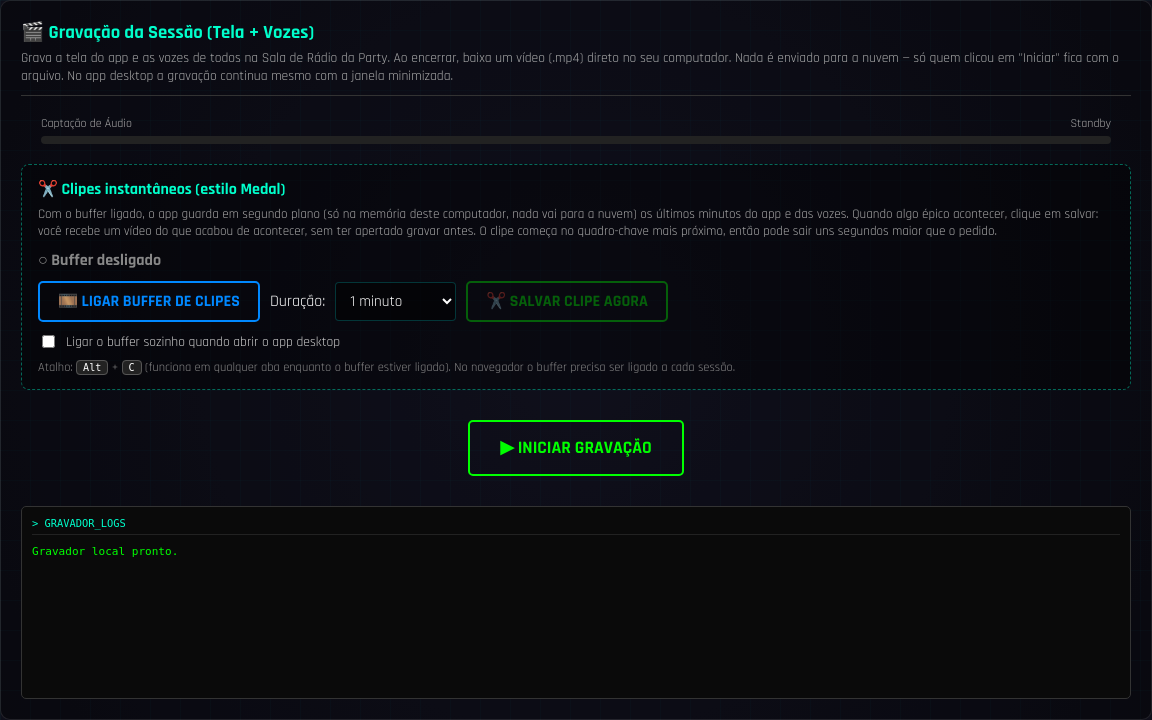
Scenario: GravadorPanel: modo clipe › LIGAR BUFFER inicia o recorder com start(1000)
Click the button "🎞️ LIGAR BUFFER DE CLIPES". click: (149, 302)
box: [38, 281, 260, 322]
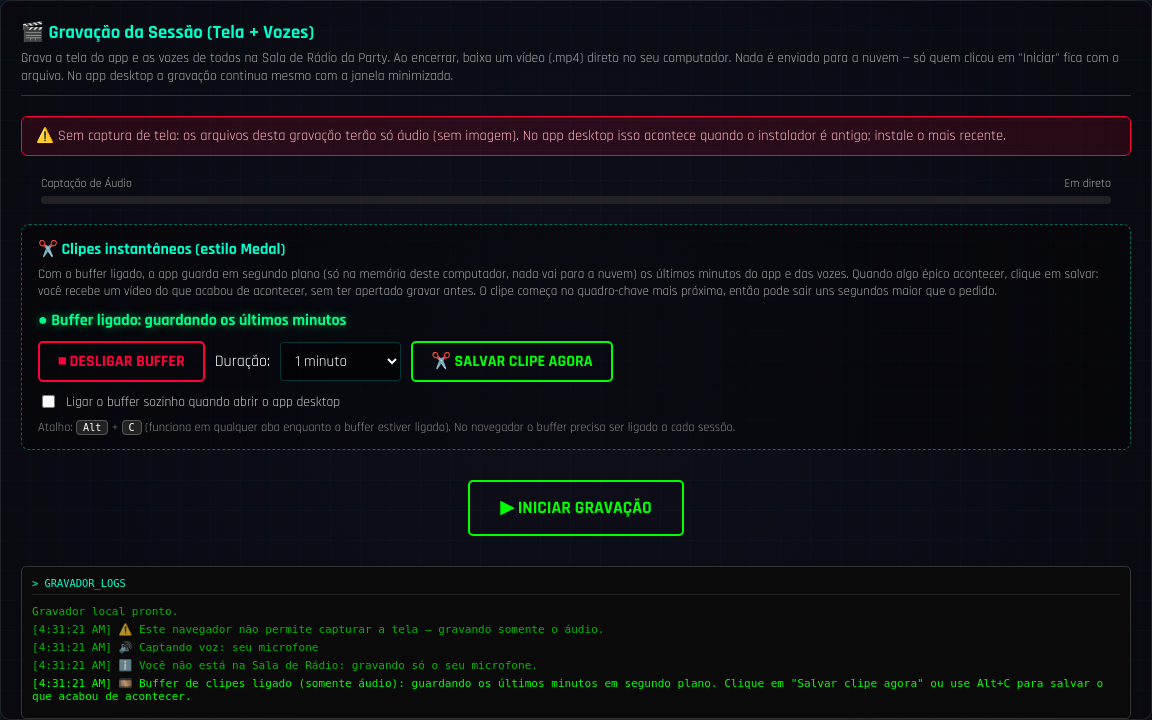
Now the text "● Buffer ligado: guardando os últimos minutos" is shown, box [38, 310, 347, 331]
